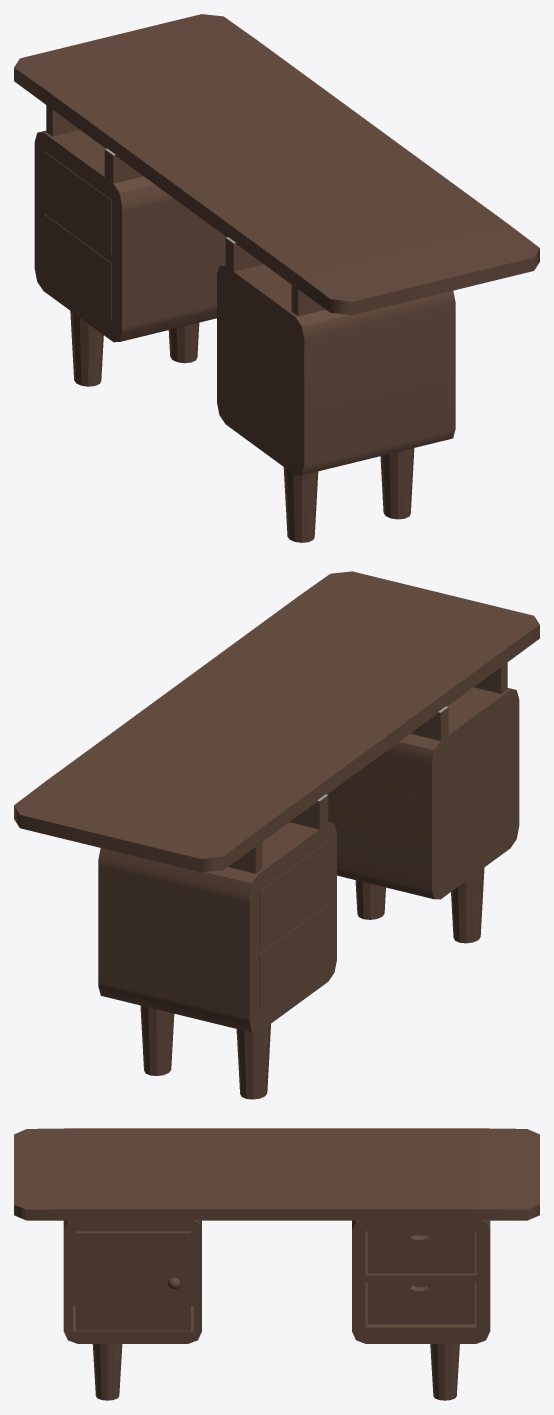
File: bureau.fbx
The picture shows the model from 3 angles, top to bottom: view 1: azimuth 30°, elevation 25°; view 2: azimuth 150°, elevation 25°; view 3: azimuth 270°, elevation 25°; orthographic projection. The views are drawn at different scales.
Visible parts, largest first — view 1: pSphere2, polySurface9, polySurface8; view 2: pSphere2, polySurface9, polySurface8; view 3: pSphere2, polySurface8, polySurface9.
Part boxes in pixels (left/top/right/bottom): pSphere2: left=14, top=14, right=539, bottom=542; polySurface9: left=43, top=214, right=111, bottom=318; polySurface8: left=43, top=151, right=111, bottom=254; pSphere2: left=14, top=571, right=539, bottom=1099; polySurface9: left=259, top=905, right=327, bottom=1009; polySurface8: left=259, top=842, right=327, bottom=945; pSphere2: left=14, top=1128, right=539, bottom=1400; polySurface8: left=367, top=1231, right=474, bottom=1273; polySurface9: left=367, top=1282, right=474, bottom=1324.
Size of the model in its own units: 250 by 316 by 677.
